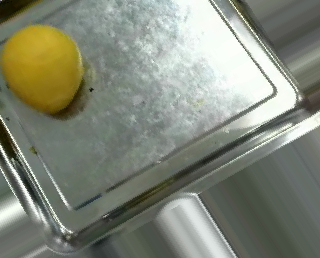Mango: (0, 25, 82, 113)
